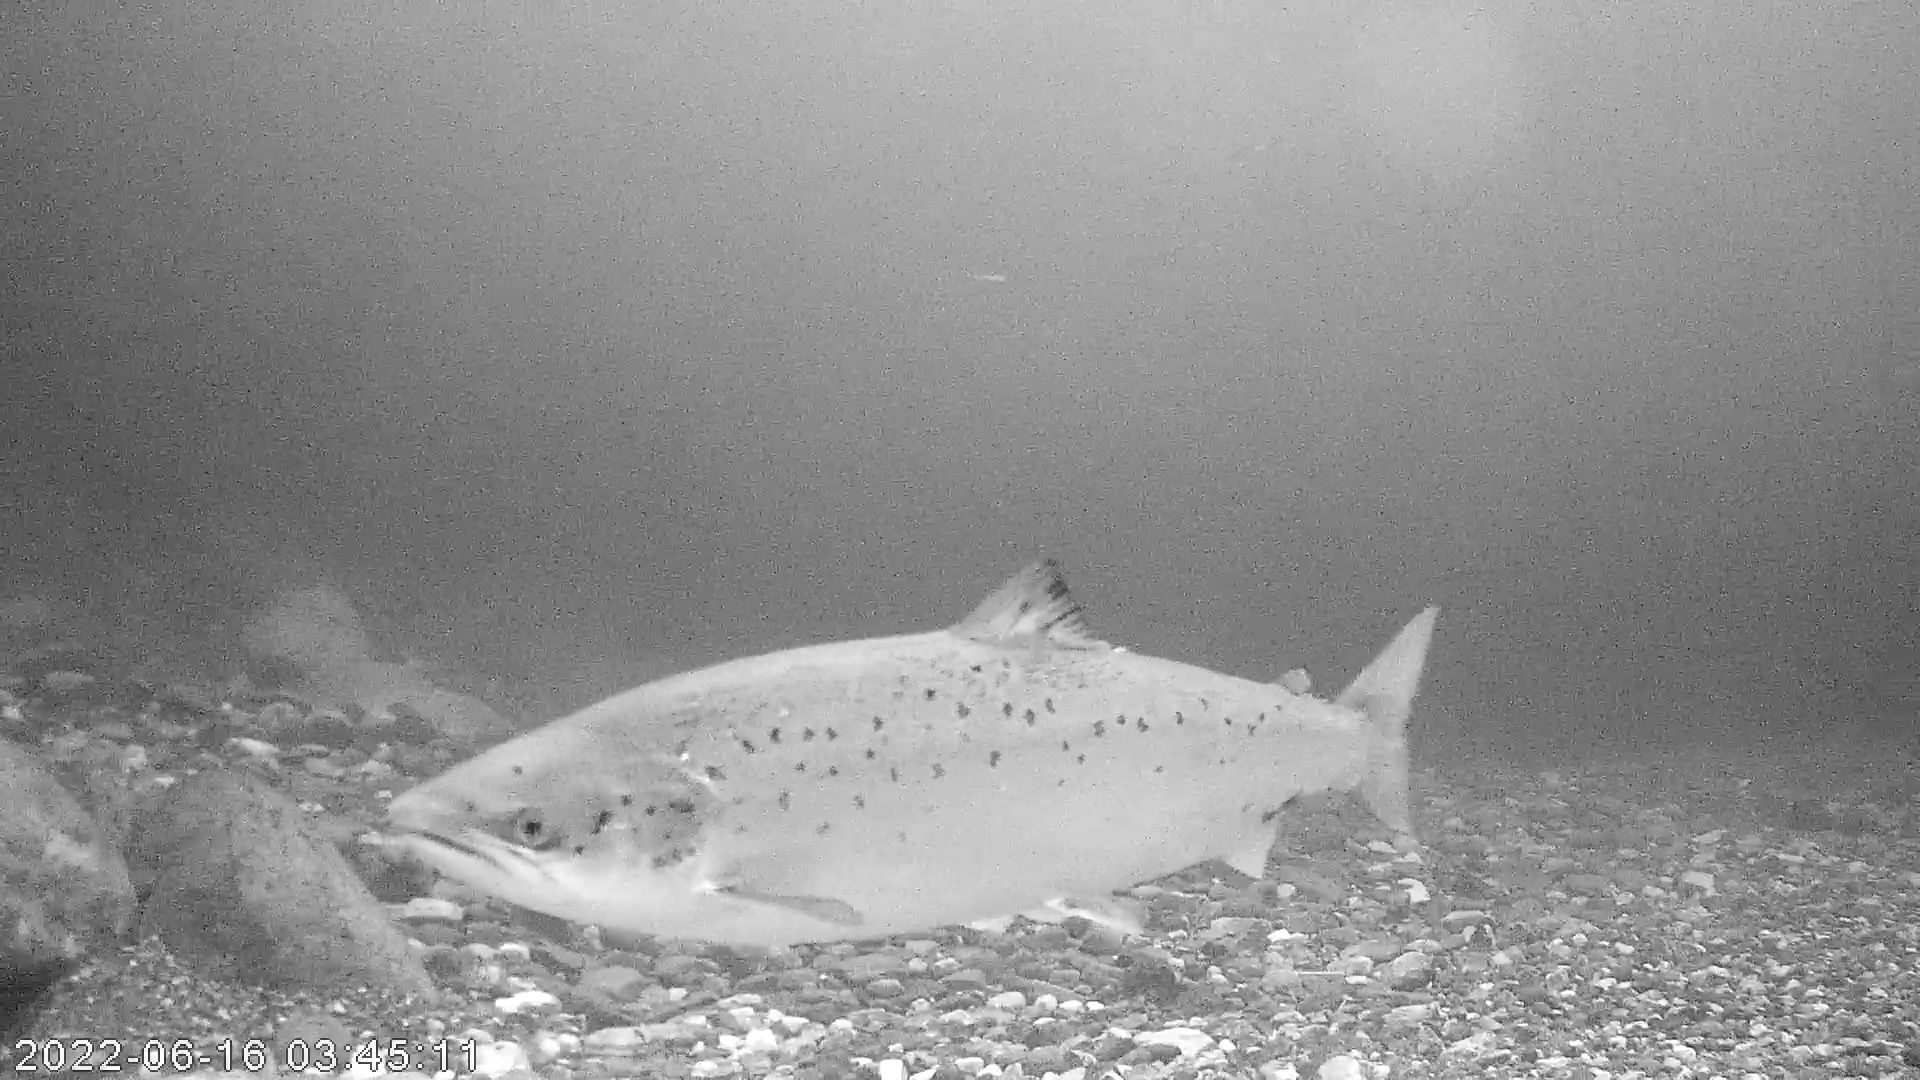salmon: (386, 550, 1447, 949)
